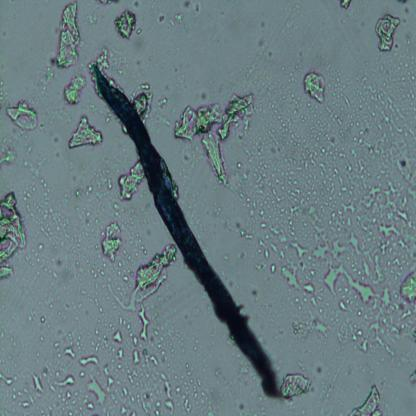Background material: (274, 58, 416, 238), (174, 90, 255, 188), (18, 152, 69, 244), (367, 182, 416, 265), (127, 243, 177, 309), (360, 289, 402, 354), (286, 288, 332, 342), (0, 191, 27, 281), (307, 202, 347, 262), (324, 262, 380, 304), (54, 2, 82, 70), (281, 236, 307, 290), (20, 235, 54, 276), (66, 115, 104, 149), (116, 163, 146, 203), (257, 220, 277, 275), (99, 222, 124, 265), (348, 384, 382, 415), (5, 101, 37, 132), (280, 368, 311, 399), (376, 14, 400, 53), (133, 84, 156, 124), (302, 70, 328, 105), (62, 73, 88, 107), (39, 49, 55, 99), (113, 8, 136, 41), (159, 370, 176, 414), (400, 264, 416, 309), (86, 376, 107, 407), (0, 132, 19, 166), (136, 304, 151, 343), (45, 373, 76, 390), (74, 180, 97, 199), (256, 36, 275, 58), (230, 221, 252, 240), (111, 330, 124, 361), (30, 370, 44, 397), (77, 352, 99, 367), (104, 365, 116, 389), (185, 0, 202, 15), (0, 372, 15, 388), (63, 344, 77, 359), (119, 404, 138, 415), (131, 349, 141, 367), (173, 13, 186, 26), (339, 0, 353, 10), (250, 287, 262, 298), (407, 372, 416, 385), (156, 12, 166, 23), (315, 366, 325, 377), (40, 313, 48, 324)
Cotton: (95, 66, 280, 398)
